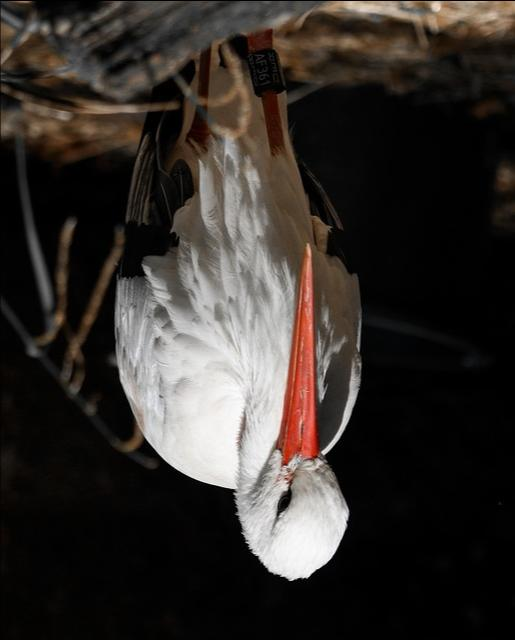Non_Gorille: (0, 0, 507, 630)
